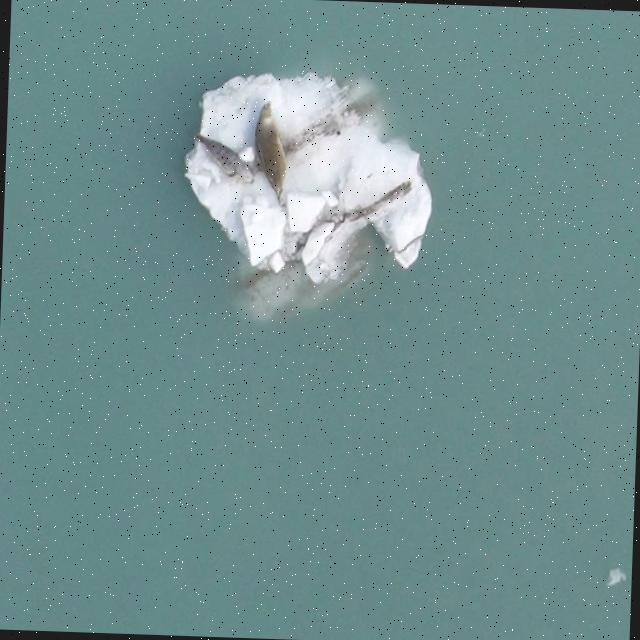seal: (244, 100, 294, 214), (190, 122, 259, 190)
